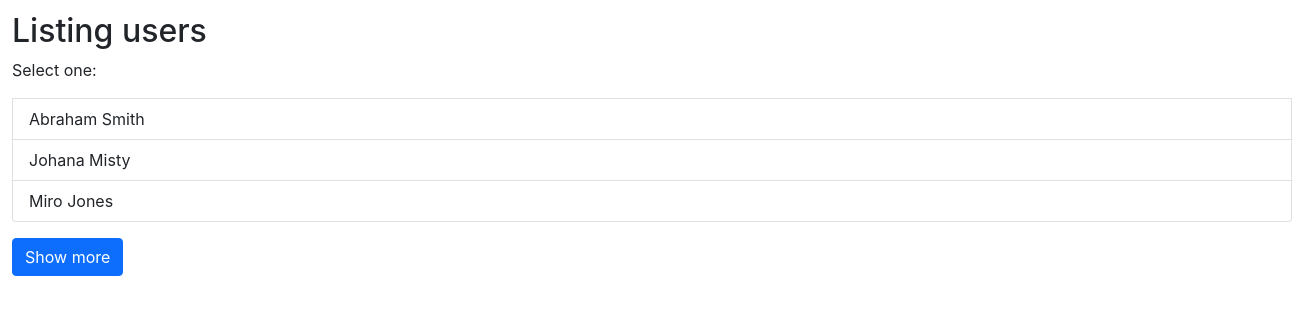
Test: Users list › shows the fourth user after clicking show more button
Check: the number of options is 3, box [12,98,1292,140]; [12,140,1292,181]; [12,181,1292,222]
Check: the text "Sara Silva" is not shown
Click the button "Show more".
click(68, 257)  # box [12,238,123,276]
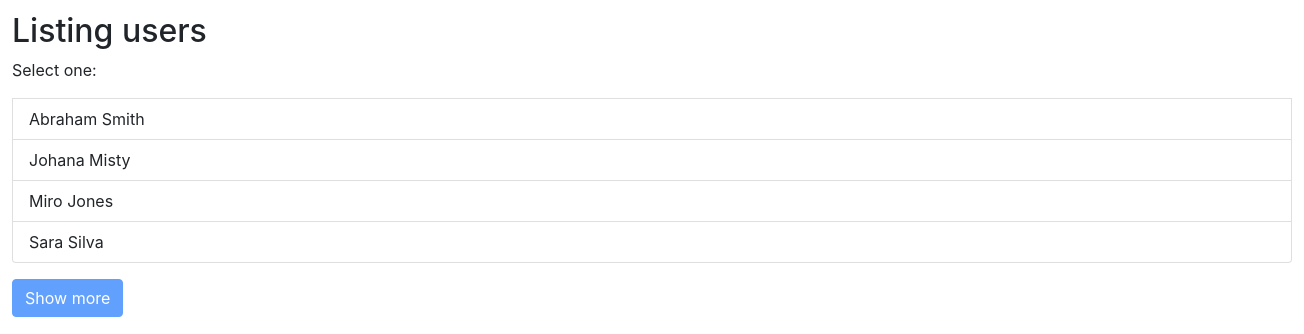
Check: the number of options is 4, box [12,98,1292,140]; [12,140,1292,181]; [12,181,1292,222]; [12,222,1292,263]
Check: the option "Sara Silva" is shown, box [12,222,1292,263]
